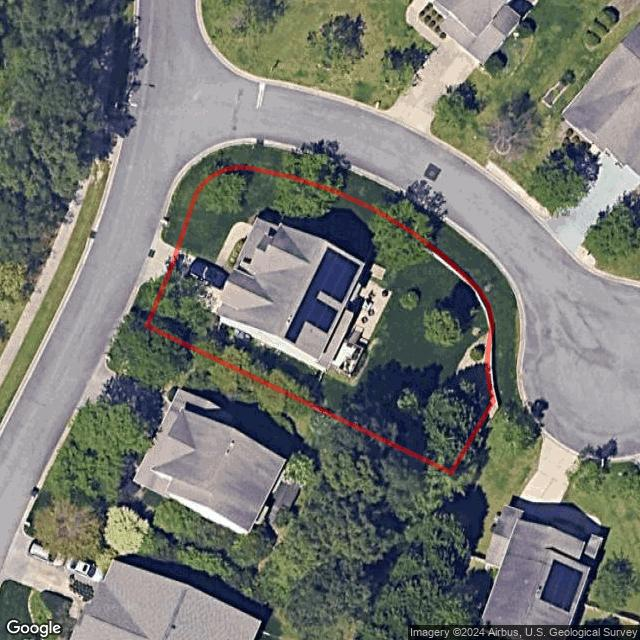Driveway: (162, 251, 232, 315)
Extra-Driveway: (143, 239, 180, 289)
Extra-Lawn: (162, 143, 523, 406), (128, 281, 164, 326)
House: (218, 217, 367, 372)
Lawn: (146, 167, 495, 474)
Other: (328, 279, 393, 376), (456, 334, 492, 413), (224, 239, 247, 269), (370, 263, 386, 281)
Sidewalk: (215, 221, 254, 268)
